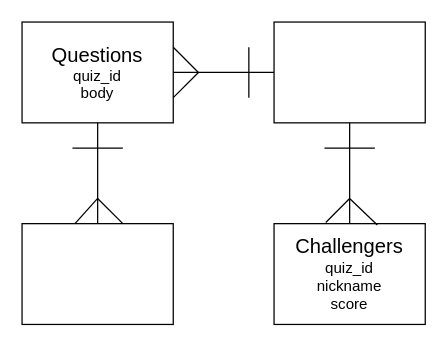
Image size: 447x347. Some labels were removed from this diagram. Each missing label, with the box of its shape:
Choices question_id body correct_answer: (21, 222, 173, 324)
Quizzes creator_name: (273, 21, 425, 123)
